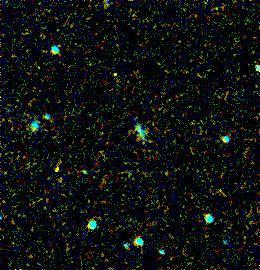star: (100, 61, 130, 91)
